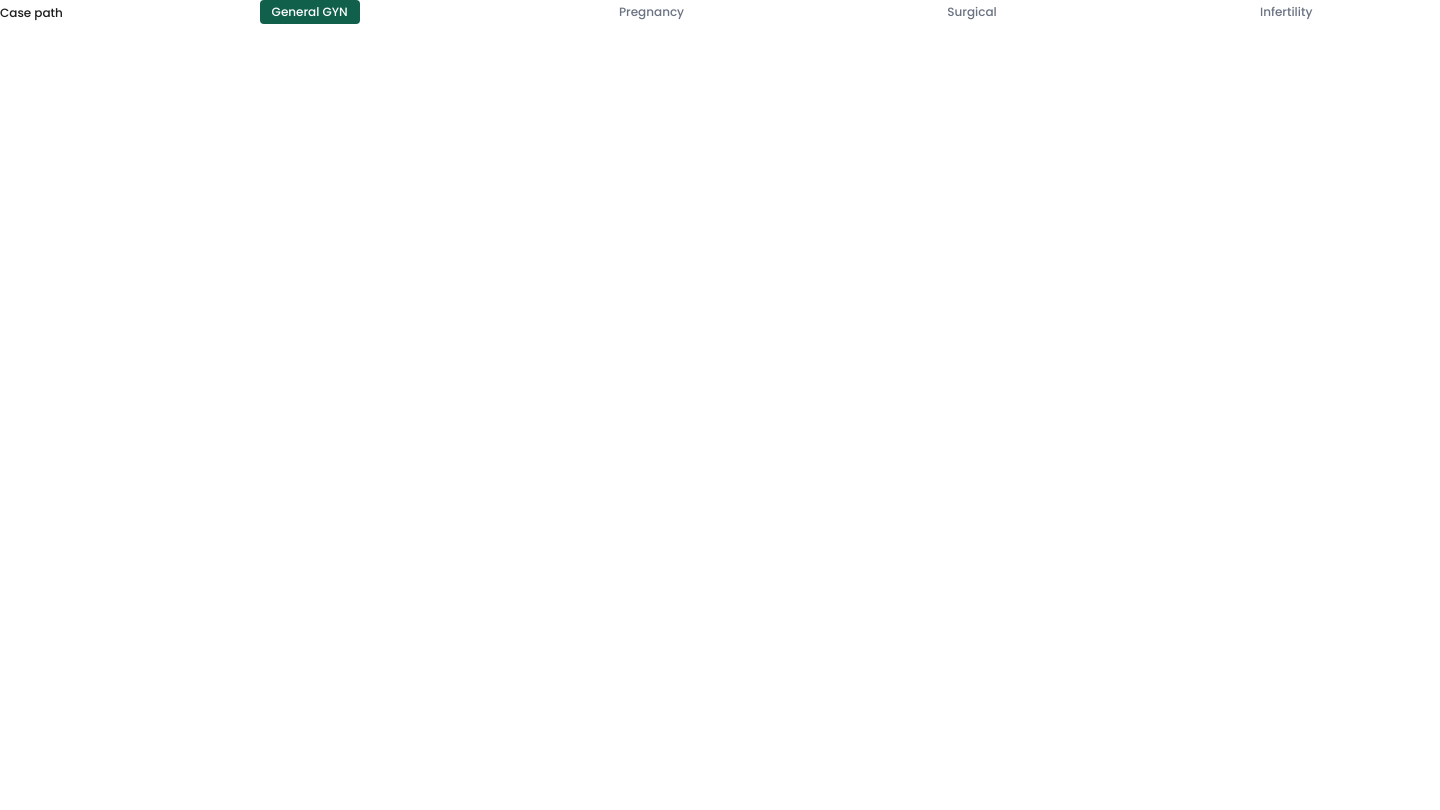
Test case: CasePathInput › opens coming-soon dialog when clicking Pregnancy
Click the button "Pregnancy": click(652, 12) x1=615 y1=4 x2=688 y2=20
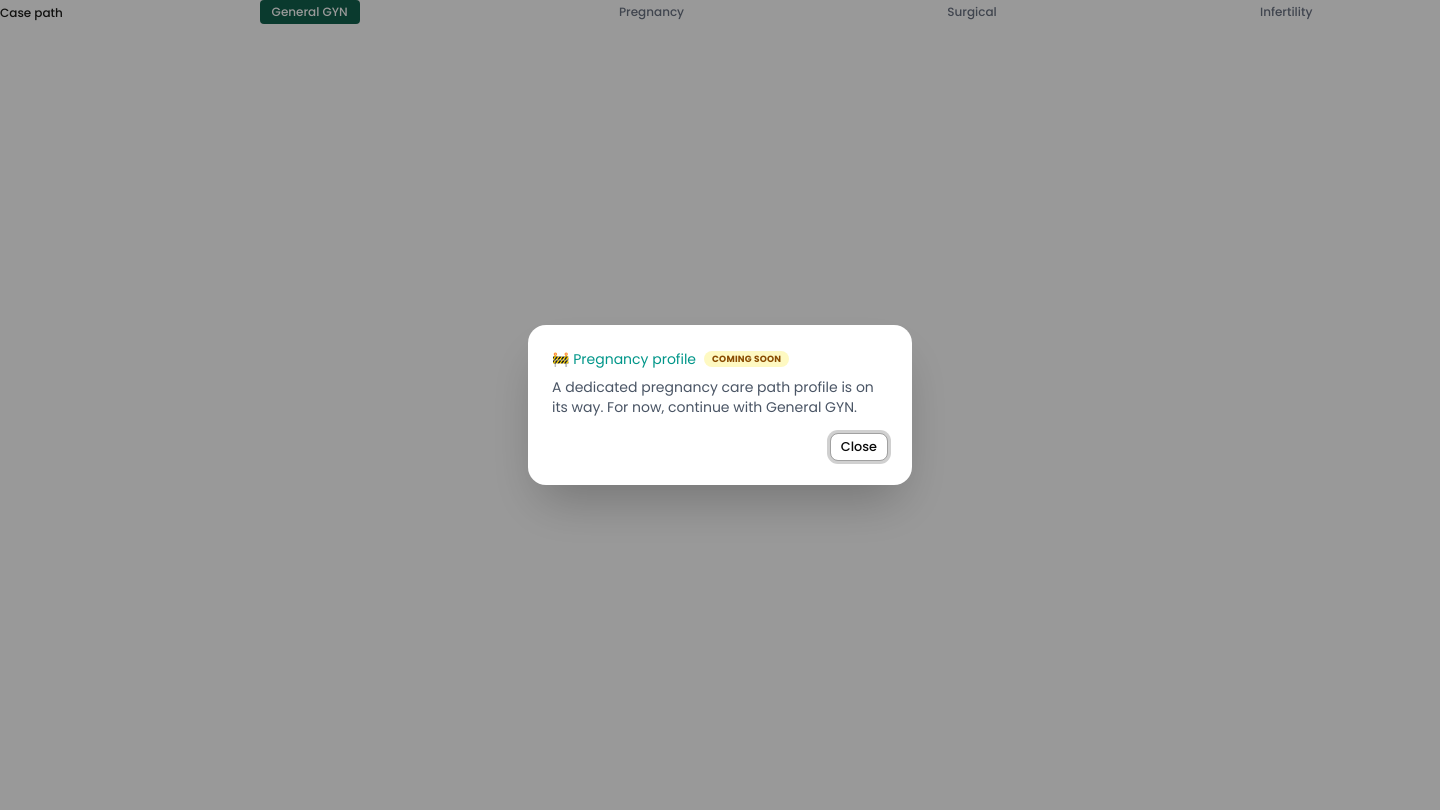
Now the text "Coming soon" is shown, box x1=704 y1=351 x2=789 y2=367
